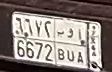2: (44, 21, 53, 62)
6: (24, 18, 34, 59), (16, 17, 25, 57)
7: (35, 20, 43, 59)
A: (77, 29, 84, 64)
B: (57, 30, 65, 61)
U: (67, 28, 76, 62)
